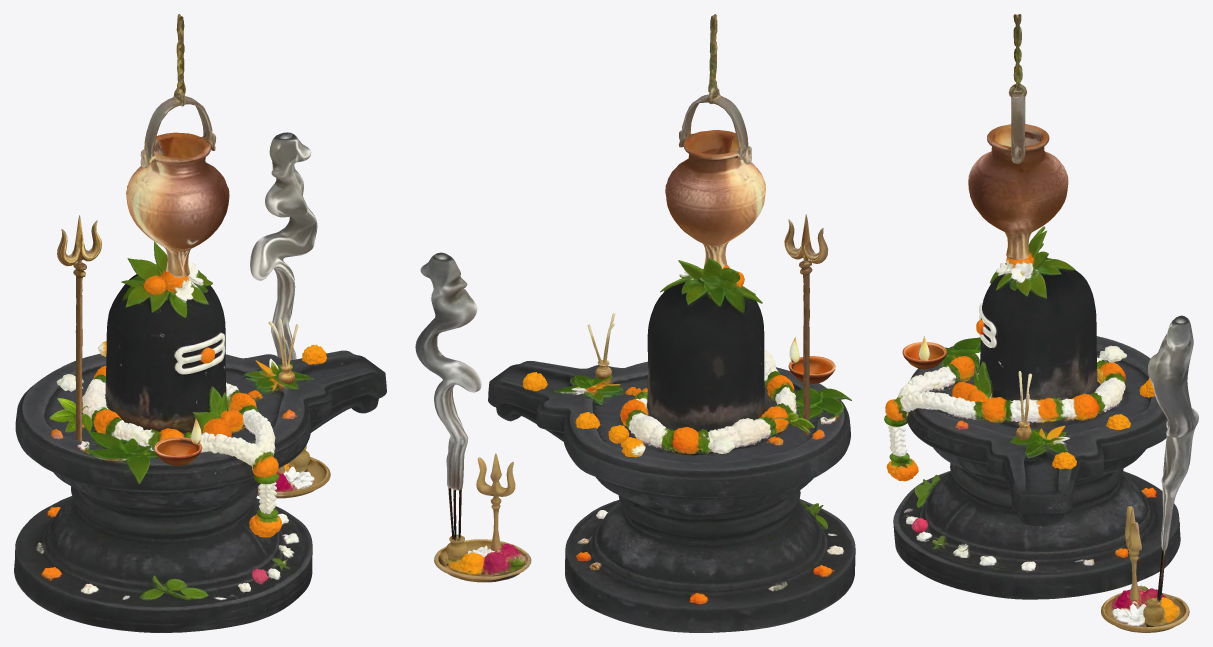
The model's file is lingam.glb.
3 renders of one model, left to right at view 1: azimuth 30°, elevation 25°; view 2: azimuth 150°, elevation 25°; view 3: azimuth 270°, elevation 25°, orthographic. The views are drawn at different scales.
Visible parts, largest first — view 1: Shivlinga_02_material.001_0, Bel_Patra_02_material.006_0, Merigold_Flower_Single_02_material.009_0, Deepak_01_With_fire_material.010_0; view 2: Shivlinga_02_material.001_0, Bel_Patra_02_material.006_0, Merigold_Flower_Single_02_material.009_0, Deepak_01_With_fire_material.010_0; view 3: Shivlinga_02_material.001_0, Merigold_Flower_Single_02_material.009_0, Bel_Patra_02_material.006_0, Deepak_01_With_fire_material.010_0.
Part boxes in pixels (x1=…): Shivlinga_02_material.001_0: x1=14, y1=241, x2=386, y2=632; Bel_Patra_02_material.006_0: x1=49, y1=14, x2=298, y2=441; Merigold_Flower_Single_02_material.009_0: x1=98, y1=132, x2=330, y2=498; Deepak_01_With_fire_material.010_0: x1=154, y1=418, x2=202, y2=465; Shivlinga_02_material.001_0: x1=488, y1=257, x2=855, y2=632; Bel_Patra_02_material.006_0: x1=587, y1=14, x2=828, y2=435; Merigold_Flower_Single_02_material.009_0: x1=415, y1=252, x2=645, y2=582; Deepak_01_With_fire_material.010_0: x1=788, y1=337, x2=835, y2=383; Shivlinga_02_material.001_0: x1=884, y1=226, x2=1180, y2=599; Merigold_Flower_Single_02_material.009_0: x1=1052, y1=315, x2=1198, y2=632; Bel_Patra_02_material.006_0: x1=968, y1=14, x2=1068, y2=440; Deepak_01_With_fire_material.010_0: x1=902, y1=336, x2=946, y2=369.
Size of the model in its own units: 0.169 by 0.2555 by 0.1377.
5 materials, 5 textured.
